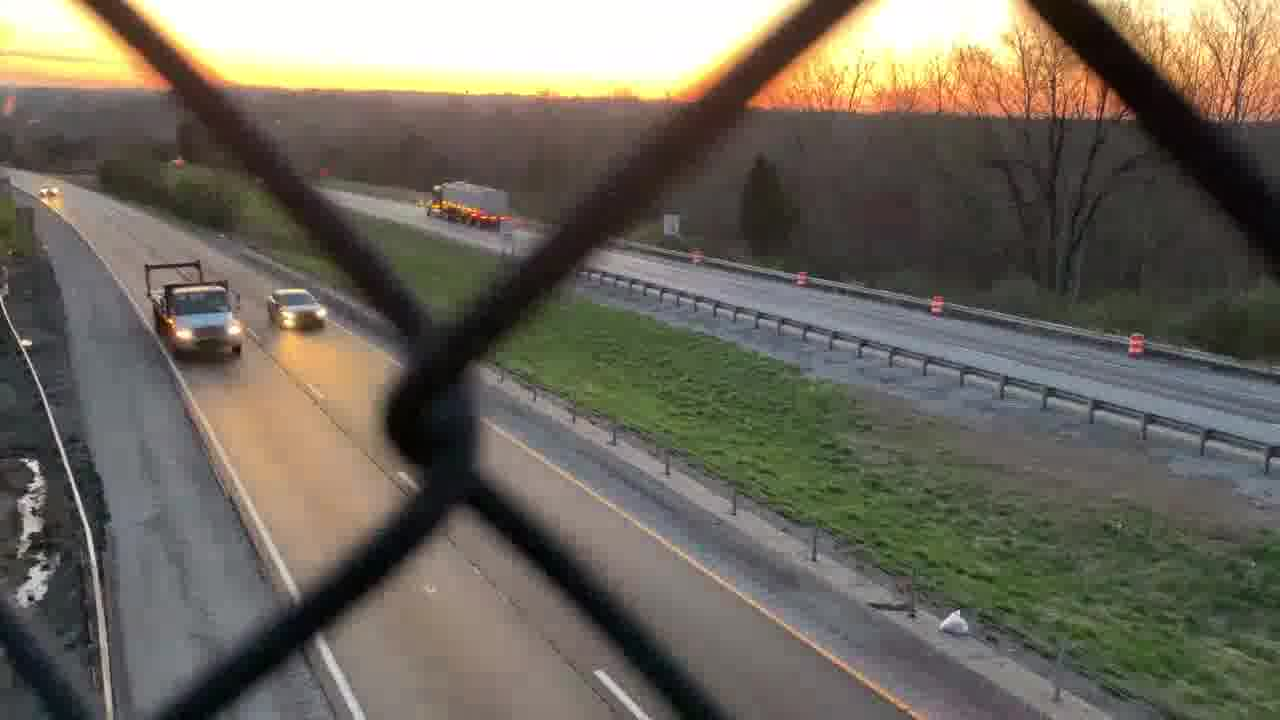heavyTruck: (139, 255, 242, 359), (423, 180, 519, 229)
smallCar: (264, 277, 329, 334), (35, 179, 60, 199)
